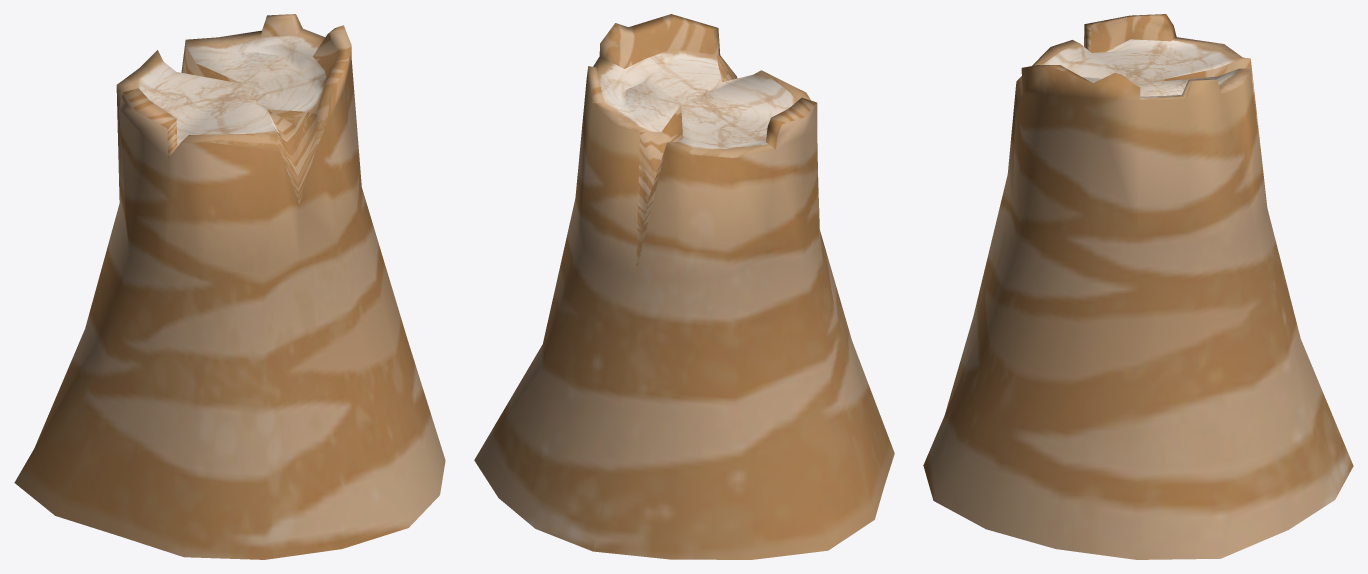
The model's file is P_CoconutPalmStump01.obj.
3 views of the same model, side by side, from view 1: azimuth 30°, elevation 25°; view 2: azimuth 150°, elevation 25°; view 3: azimuth 270°, elevation 25° (orthographic). The views are drawn at different scales.
Size of the model in its own units: 1.67 by 1.86 by 1.64.
